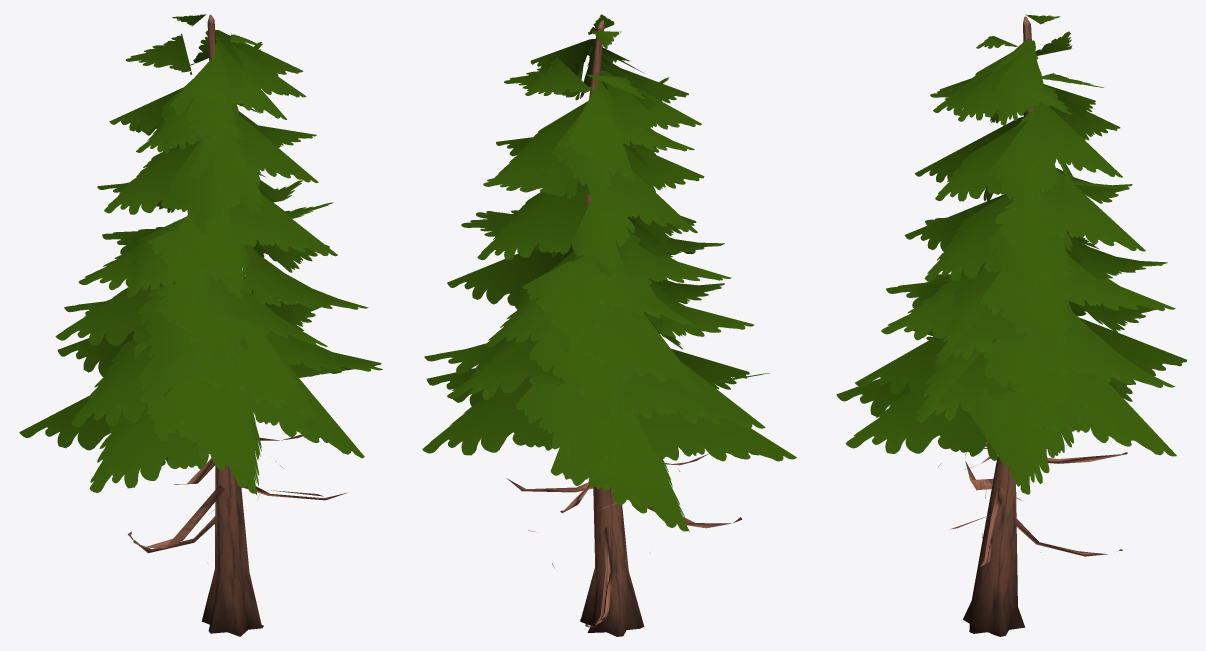
Rendered from tree-life-4-mature.glb.
The picture shows the model from 3 angles, left to right: view 1: azimuth 30°, elevation 25°; view 2: azimuth 150°, elevation 25°; view 3: azimuth 270°, elevation 25°; orthographic projection. The views are drawn at different scales.
Parts seen in each view (by area): view 1: Pine_4; view 2: Pine_4; view 3: Pine_4.
Boxes of the visible parts, box(x1,y1,x2,y2) form: Pine_4: box(19, 14, 382, 636); Pine_4: box(422, 14, 796, 636); Pine_4: box(836, 14, 1186, 636).
Bounding box in the file's own units: 3.63 × 6.21 × 3.36.
2 materials, 2 textured.
